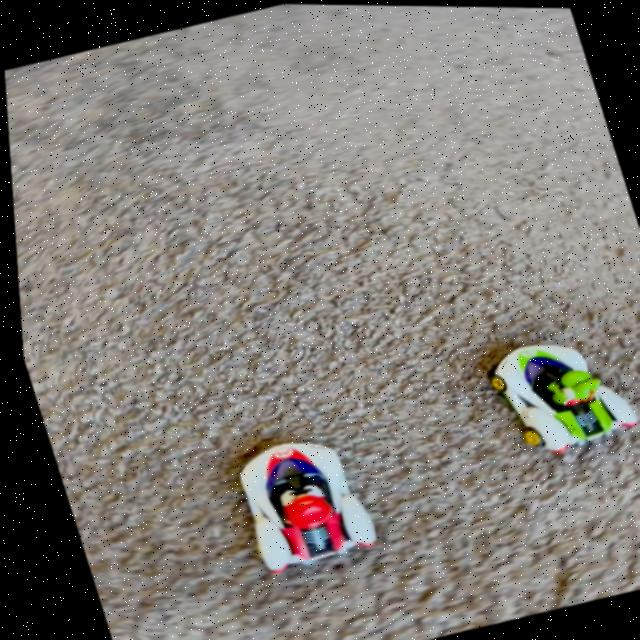mario: (179, 402, 403, 609)
yoshi: (450, 299, 640, 488)
